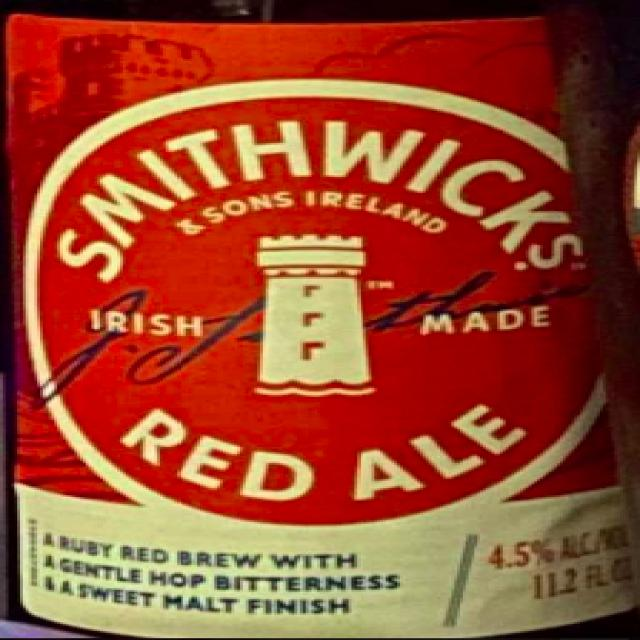Smithwick-s RED: (0, 0, 640, 640)
